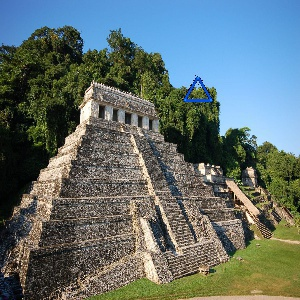triangle: (179, 74, 215, 105)
